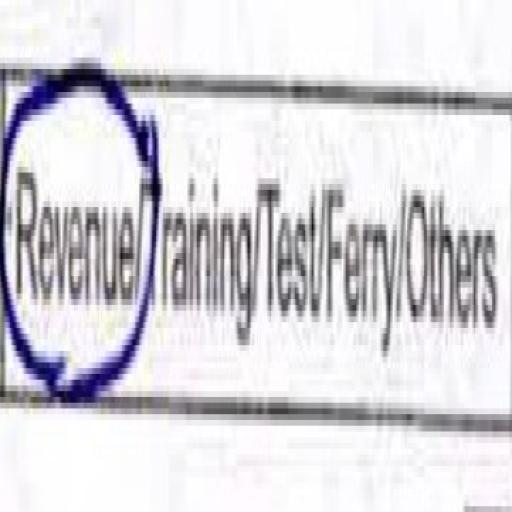check: (0, 0, 139, 420)
